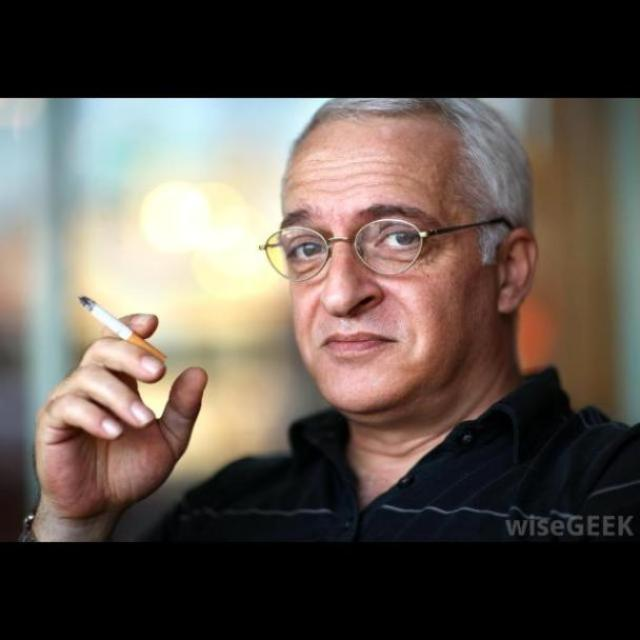rokok: (71, 287, 173, 371)
